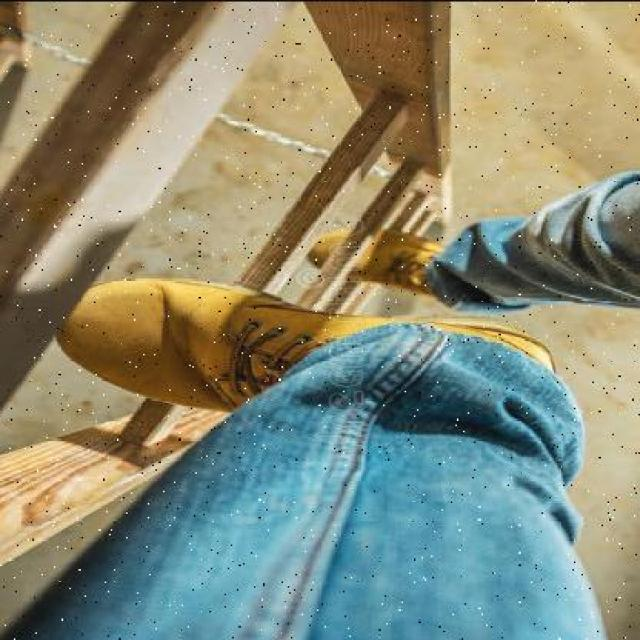shoes: (56, 291, 544, 415), (302, 232, 435, 294)
